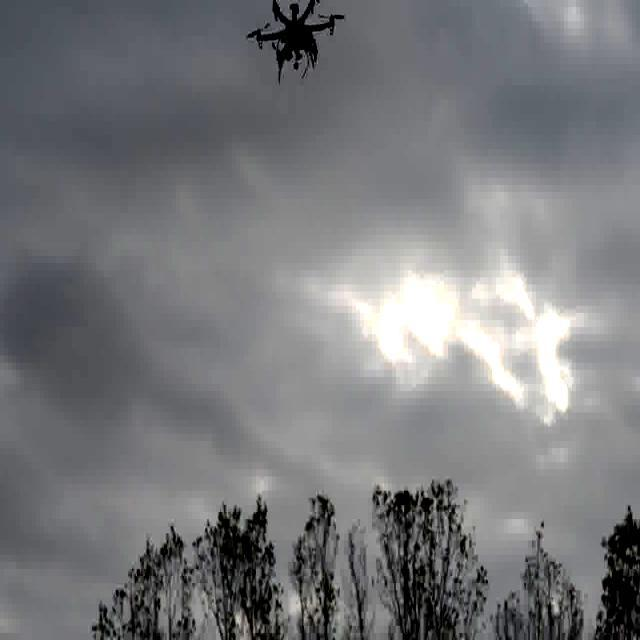drone: (247, 0, 343, 77)
